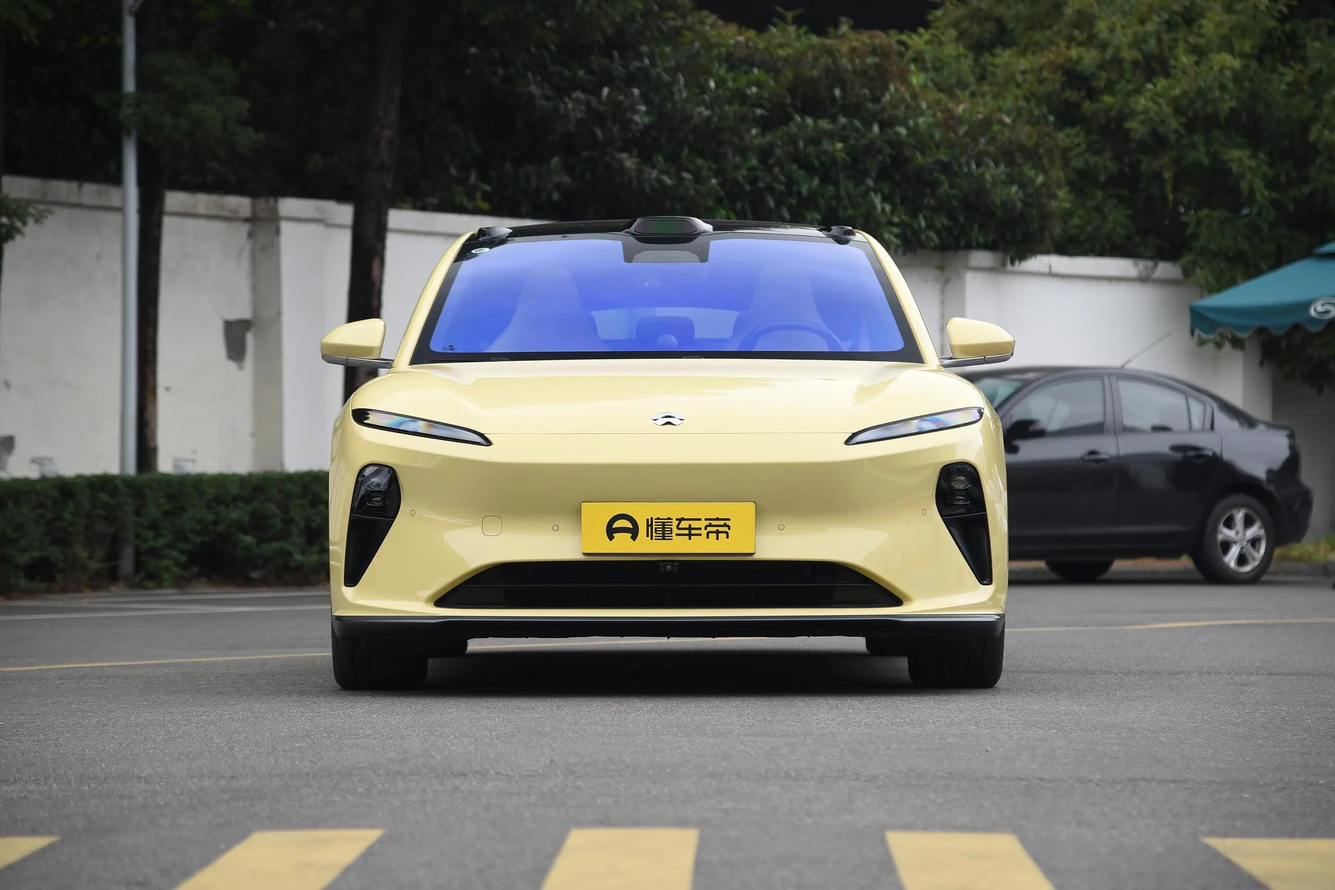NIO: (652, 411, 685, 426)
